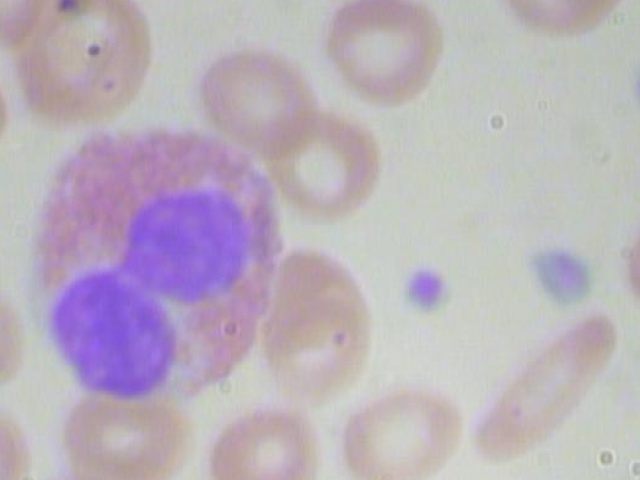Platelets: (519, 239, 605, 320), (394, 259, 460, 321), (624, 55, 640, 120)
RBC: (474, 311, 623, 461), (260, 242, 380, 407), (320, 0, 457, 116), (268, 108, 399, 220), (193, 42, 324, 154), (336, 380, 467, 480), (61, 386, 192, 480), (191, 403, 328, 480), (495, 0, 626, 37), (0, 395, 39, 480), (0, 0, 62, 49), (619, 188, 640, 322), (302, 0, 446, 12)
WBC: (1, 116, 303, 416)
